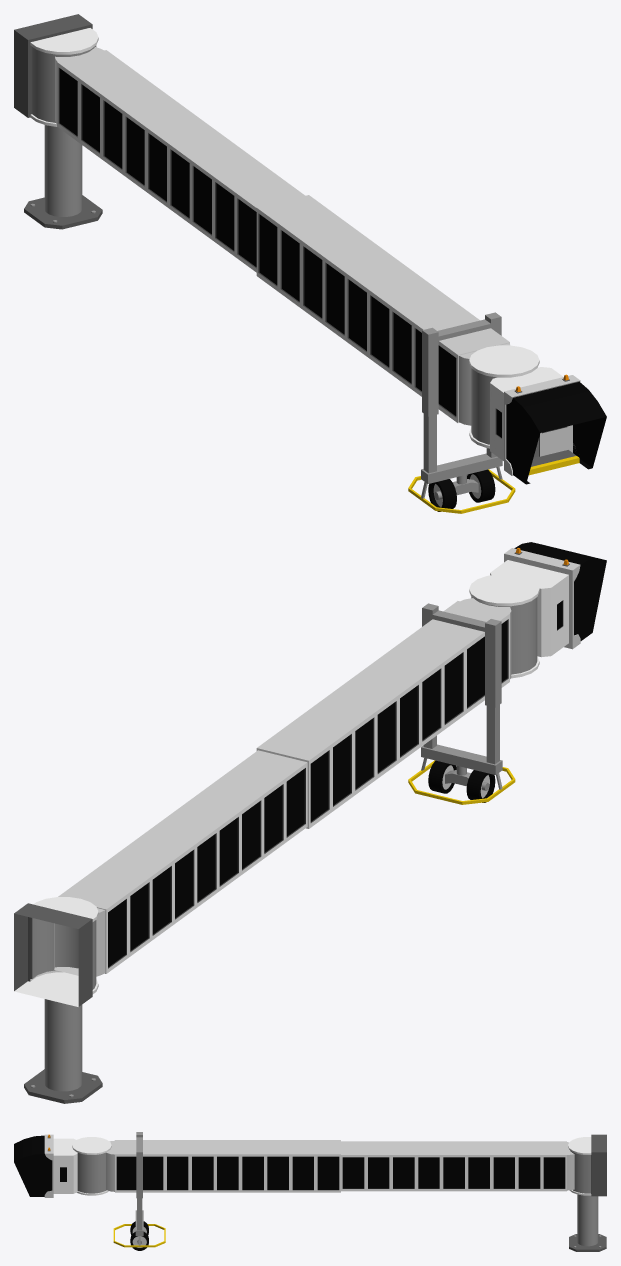
Rendered from Passenger Boarding Bridge (Closed Canopy).fbx.
3 views of the same model, one above another, from view 1: azimuth 30°, elevation 25°; view 2: azimuth 150°, elevation 25°; view 3: azimuth 270°, elevation 25° (orthographic). The views are drawn at different scales.
Parts seen in each view (by area): view 1: PBB_Tunnel_2, PBB_Tunnel_1, PBB_Rotunda, PBB_Cabin.Canopy_Closed, PBB_Cabin, PBB_Elevation_System, PBB_Wheels; view 2: PBB_Tunnel_2, PBB_Tunnel_1, PBB_Rotunda, PBB_Cabin, PBB_Elevation_System, PBB_Cabin.Canopy_Closed, PBB_Wheels; view 3: PBB_Tunnel_2, PBB_Tunnel_1, PBB_Rotunda, PBB_Cabin.Canopy_Closed, PBB_Cabin, PBB_Elevation_System, PBB_Wheels.
Part boxes in pixels (x1,y1,x2,y2): PBB_Tunnel_2: (256,195,539,448); PBB_Tunnel_1: (55,47,305,272); PBB_Rotunda: (14,14,102,229); PBB_Cabin.Canopy_Closed: (506,381,606,484); PBB_Cabin: (490,367,580,475); PBB_Elevation_System: (408,413,515,513); PBB_Wheels: (428,469,495,511); PBB_Tunnel_2: (256,574,539,828); PBB_Tunnel_1: (54,750,307,976); PBB_Rotunda: (14,897,102,1103); PBB_Cabin: (490,548,580,657); PBB_Elevation_System: (408,704,515,804); PBB_Cabin.Canopy_Closed: (514,542,606,640); PBB_Wheels: (428,760,495,802); PBB_Tunnel_2: (72,1132,340,1198); PBB_Tunnel_1: (341,1141,574,1191); PBB_Rotunda: (568,1134,606,1251); PBB_Cabin.Canopy_Closed: (14,1135,52,1196); PBB_Cabin: (44,1134,77,1197); PBB_Elevation_System: (113,1198,165,1247); PBB_Wheels: (130,1221,148,1250).
Size of the model in its own units: 368 by 801 by 4195.
1 material, 1 textured.
